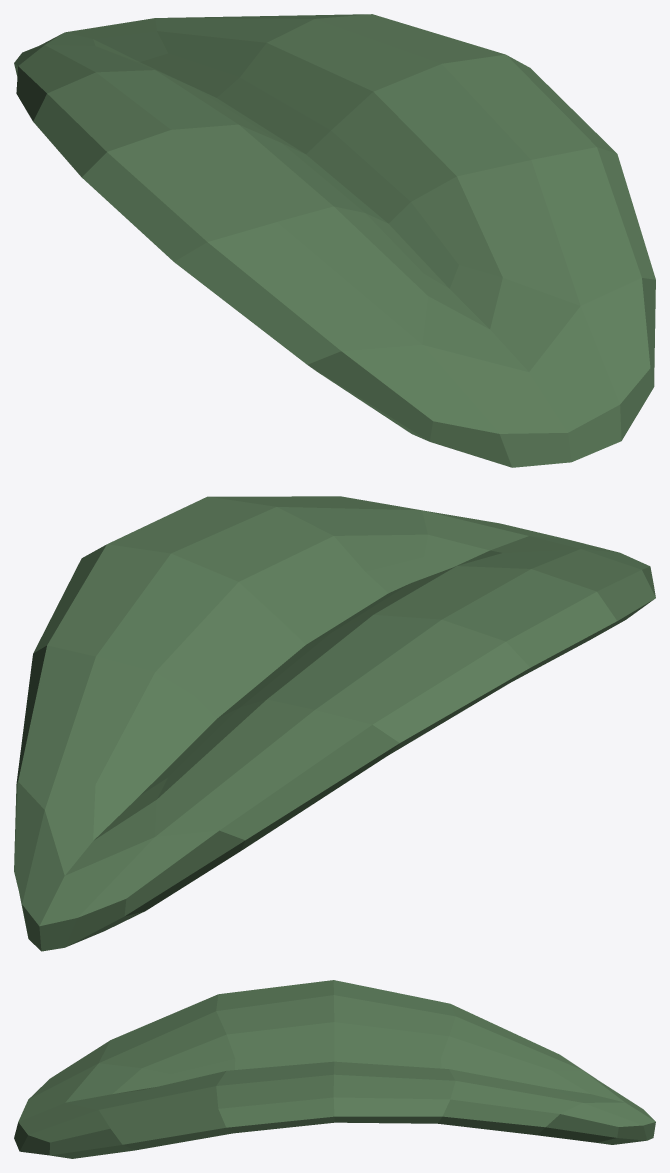
The model's file is feuille_A.fbx.
The picture shows the model from 3 angles, top to bottom: view 1: azimuth 30°, elevation 25°; view 2: azimuth 150°, elevation 25°; view 3: azimuth 270°, elevation 25°; orthographic projection. The views are drawn at different scales.
Parts seen in each view (by area): view 1: Plane; view 2: Plane; view 3: Plane.
Part boxes in pixels (box(x1,y1,x2,y2)): Plane: box(14, 14, 655, 467); Plane: box(14, 496, 655, 951); Plane: box(14, 980, 655, 1158).
Size of the model in its own units: 199 by 75.31 by 409.
